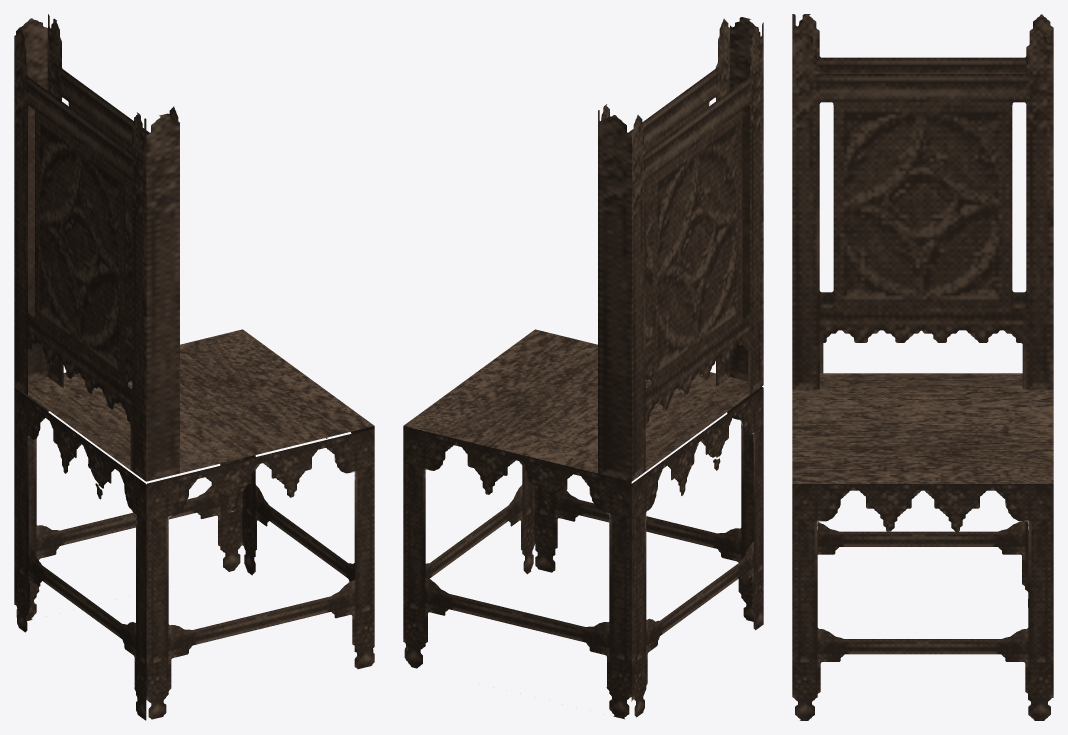
The model's file is silla.fbx.
3 renders of one model, left to right at view 1: azimuth 30°, elevation 25°; view 2: azimuth 150°, elevation 25°; view 3: azimuth 270°, elevation 25°, orthographic.
Visible parts, largest first — view 1: silla1, Cube.014; view 2: silla1, Cube.014; view 3: Cube.014, silla1.
Boxes of the visible parts, x1,y1,x2,y2 form: silla1: (14,329,374,720); Cube.014: (14,14,179,481); silla1: (403,329,763,719); Cube.014: (598,17,763,481); Cube.014: (792,14,1053,389); silla1: (792,373,1053,720).
Bounding box in the file's own units: 58.58 × 58.58 × 147.
1 material, 1 textured.
